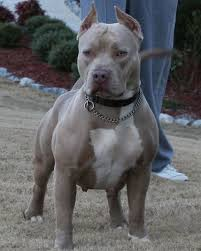Perro Pitbull: (32, 3, 177, 237)
